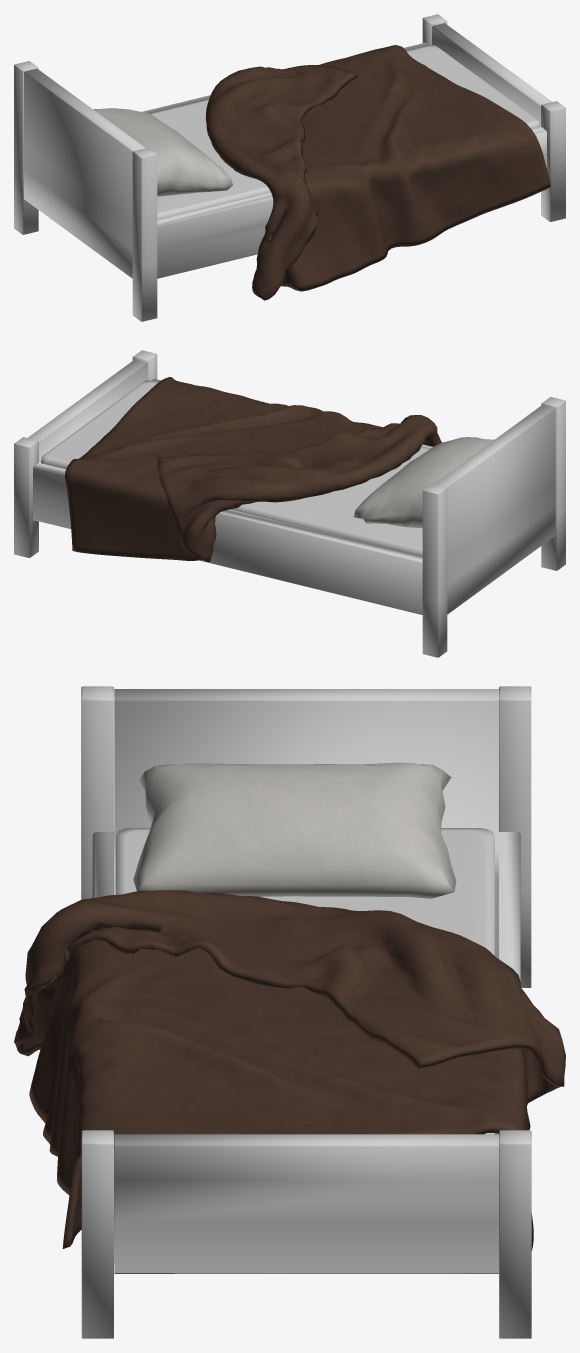
The model's file is bed_lp.fbx.
3 renders of one model, top to bottom at view 1: azimuth 30°, elevation 25°; view 2: azimuth 150°, elevation 25°; view 3: azimuth 270°, elevation 25°, orthographic. The views are drawn at different scales.
Visible parts, largest first — view 1: duvet_lowpoly, bed frame_lowpoly.001; view 2: bed frame_lowpoly.001, duvet_lowpoly; view 3: duvet_lowpoly, bed frame_lowpoly.001.
Part boxes in pixels (x1,y1,x2,y2): duvet_lowpoly: (93,45,550,300); bed frame_lowpoly.001: (14,14,565,321); bed frame_lowpoly.001: (14,350,565,657); duvet_lowpoly: (64,377,494,562); duvet_lowpoly: (14,762,565,1250); bed frame_lowpoly.001: (81,686,531,1338).
Bounding box in the file's own units: 198 × 73.11 × 127.
